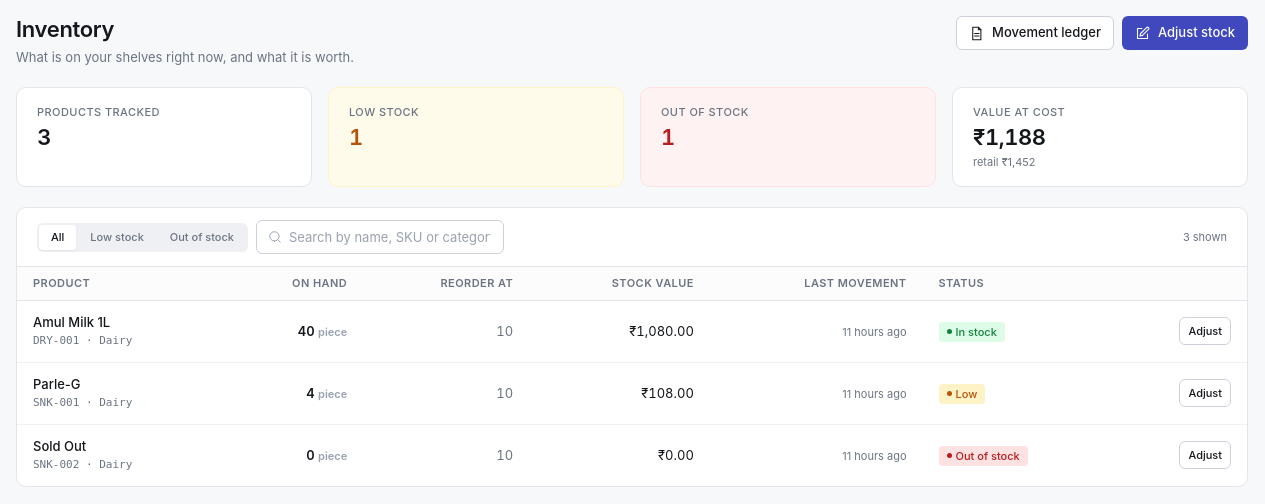
Scenario: Inventory › filters to low stock only
The width and height of the screenshot is (1265, 504).
Check: the text "Amul Milk 1L" is shown, box [33,314,110,330]
Click the button "Low stock" at coordinates (117, 237), box [78,225,156,250]
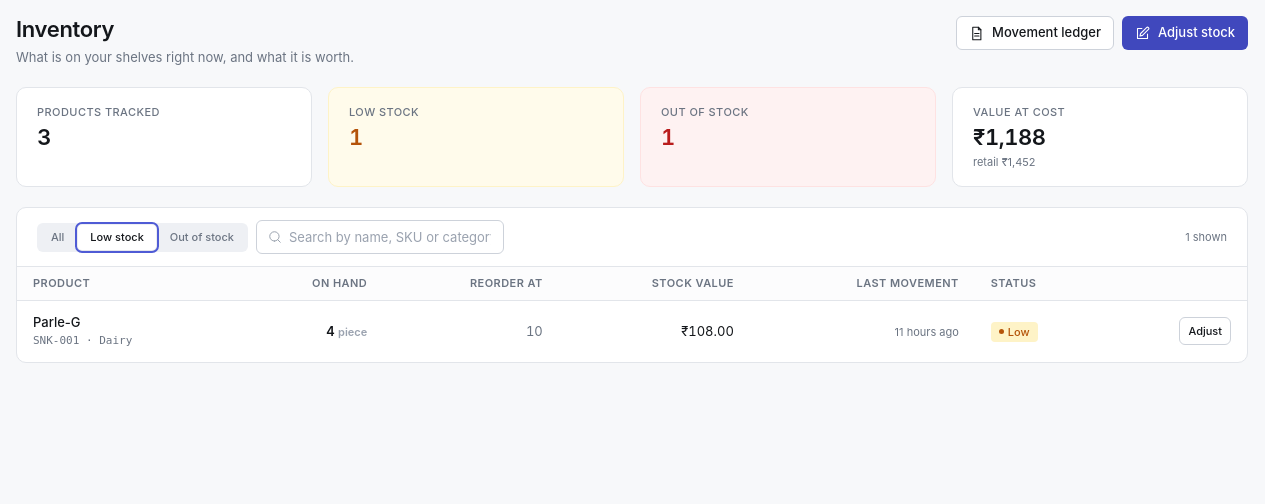
Check: the text "Parle-G" is shown, box [33,314,80,330]
Check: the text "Amul Milk 1L" is gone
